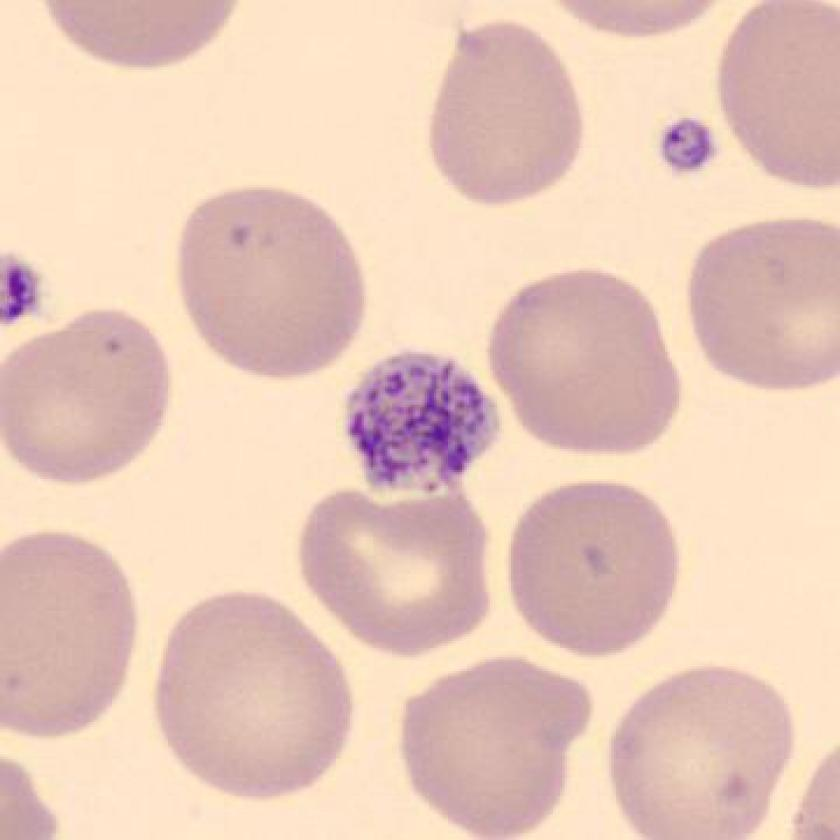platelets: (339, 346, 512, 498)
